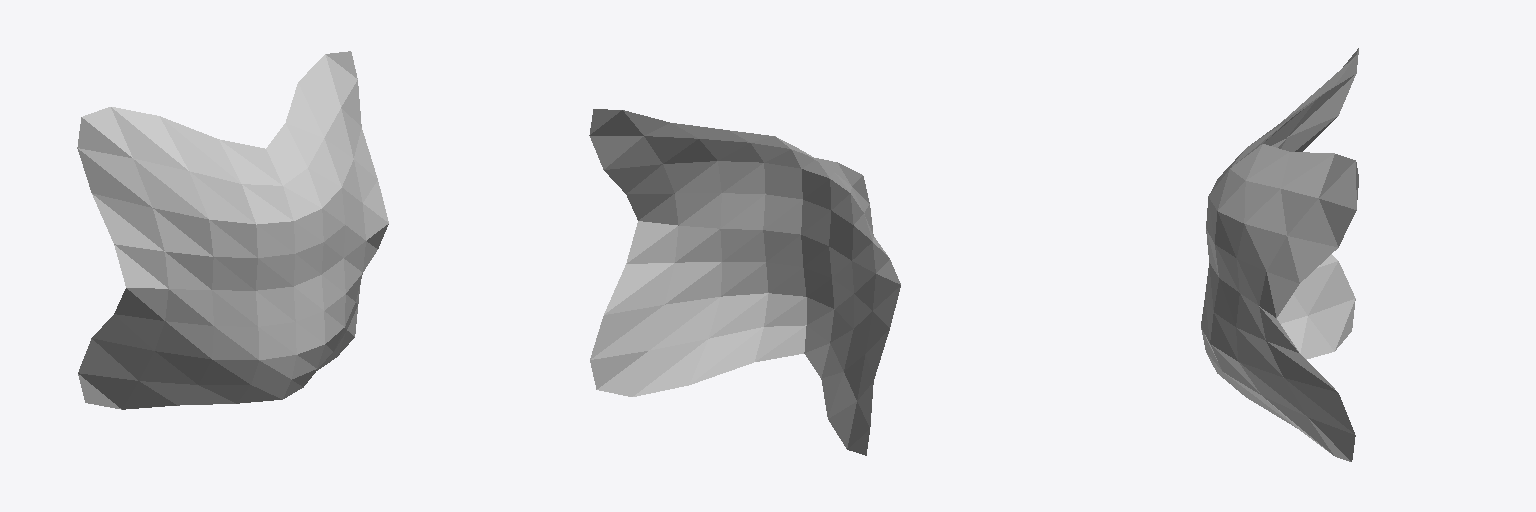
Rendered from PavilionFile.obj.
3 views of the same model, side by side, from view 1: azimuth 30°, elevation 25°; view 2: azimuth 150°, elevation 25°; view 3: azimuth 270°, elevation 25° (orthographic).
Parts seen in each view (by area): view 1: Plane; view 2: Plane; view 3: Plane.
Boxes of the visible parts, box(x1,y1,x2,y2) form: Plane: box(77, 51, 388, 409); Plane: box(589, 109, 900, 455); Plane: box(1201, 48, 1358, 461).
Size of the model in its own units: 2.13 by 2.15 by 1.04.